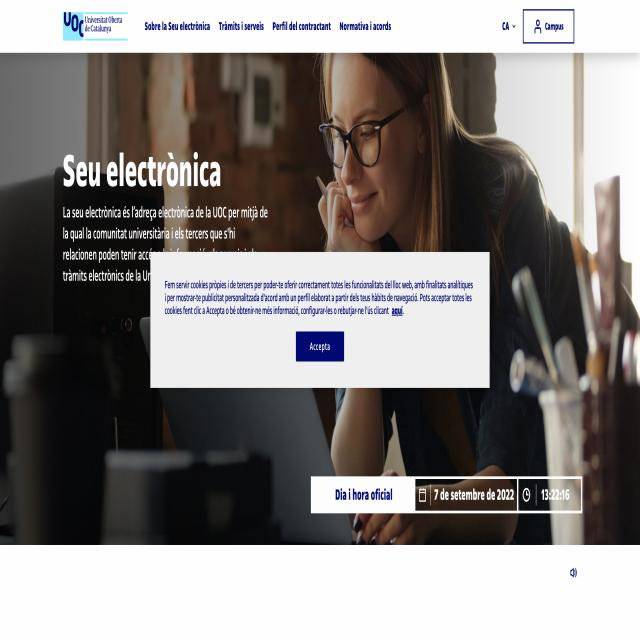Logo: (60, 7, 134, 46)
Navigation: (144, 7, 413, 40)
